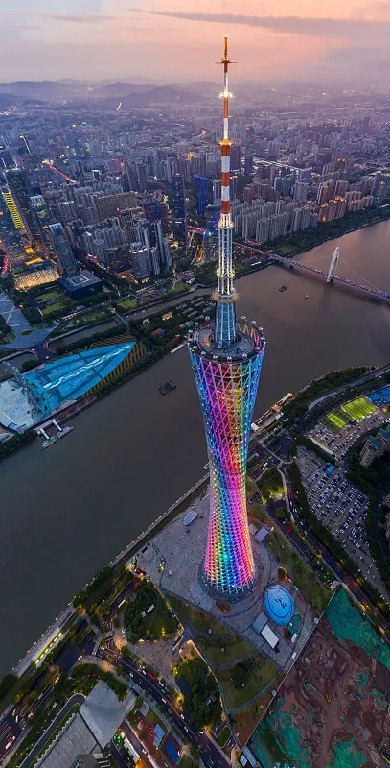Canton: (181, 38, 271, 601)
